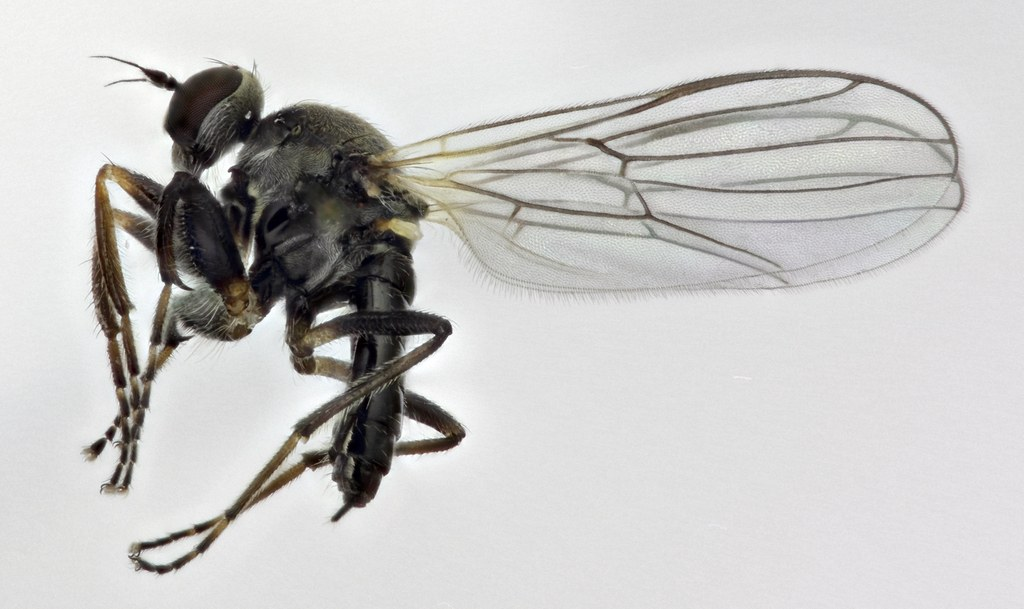bee: (20, 70, 1007, 516)
